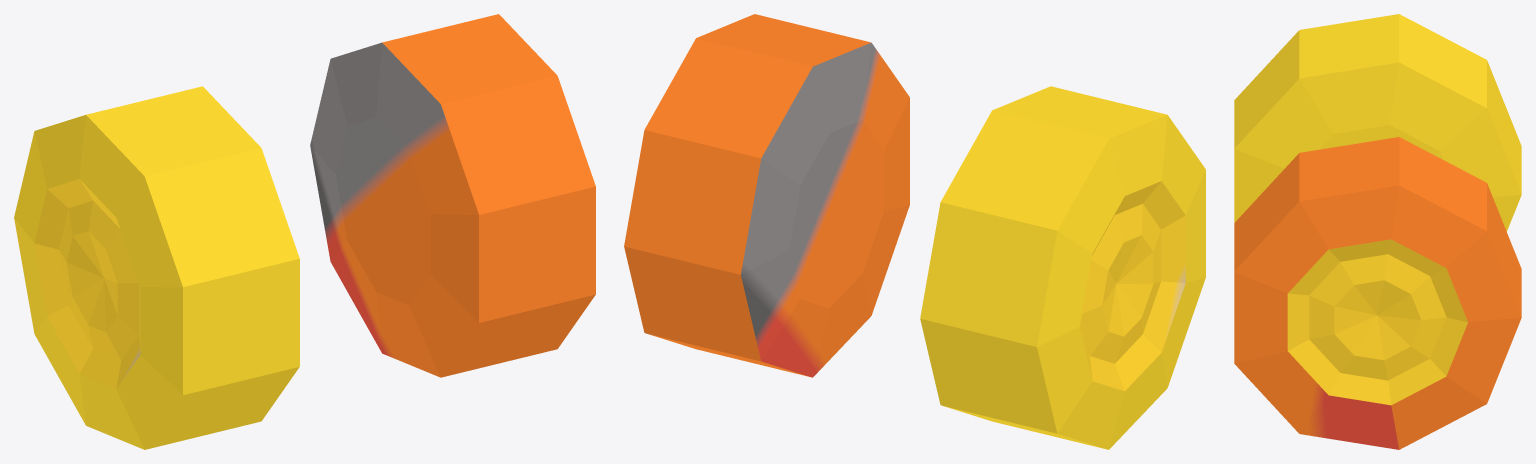
The model's file is plane-passenger-wheels_BR3.glb.
The picture shows the model from 3 angles, left to right: view 1: azimuth 30°, elevation 25°; view 2: azimuth 150°, elevation 25°; view 3: azimuth 270°, elevation 25°; orthographic projection. The views are drawn at different scales.
Visible parts, largest first — view 1: plane-passenger-wheels_BR3; view 2: plane-passenger-wheels_BR3; view 3: plane-passenger-wheels_BR3.
Boxes of the visible parts, x1,y1,x2,y2 form: plane-passenger-wheels_BR3: (14, 14, 595, 449); plane-passenger-wheels_BR3: (624, 14, 1205, 449); plane-passenger-wheels_BR3: (1234, 14, 1521, 449).
Bounding box in the file's own units: 1.94 × 1.33 × 1.31.
Materials: 1 (1 with a texture image).
